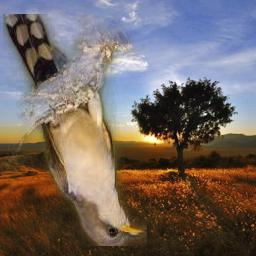Cuckoo: (3, 14, 147, 246)
